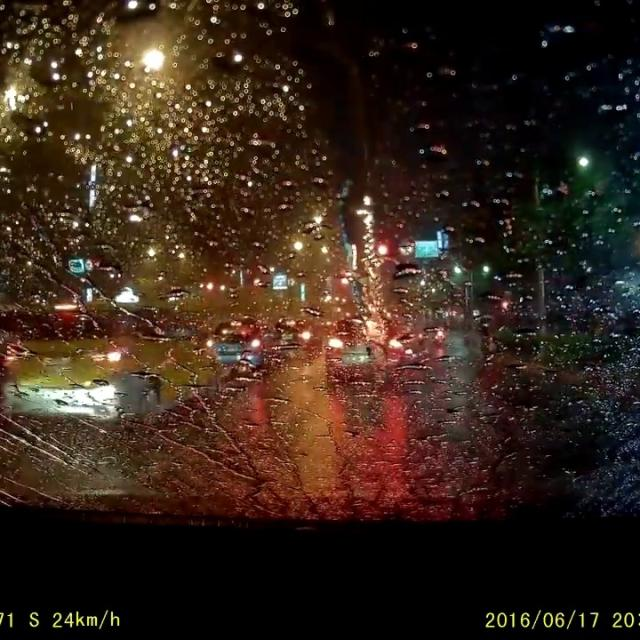Car: (0, 301, 219, 428), (383, 323, 486, 387), (316, 315, 385, 386), (211, 315, 265, 376), (266, 317, 321, 360)
